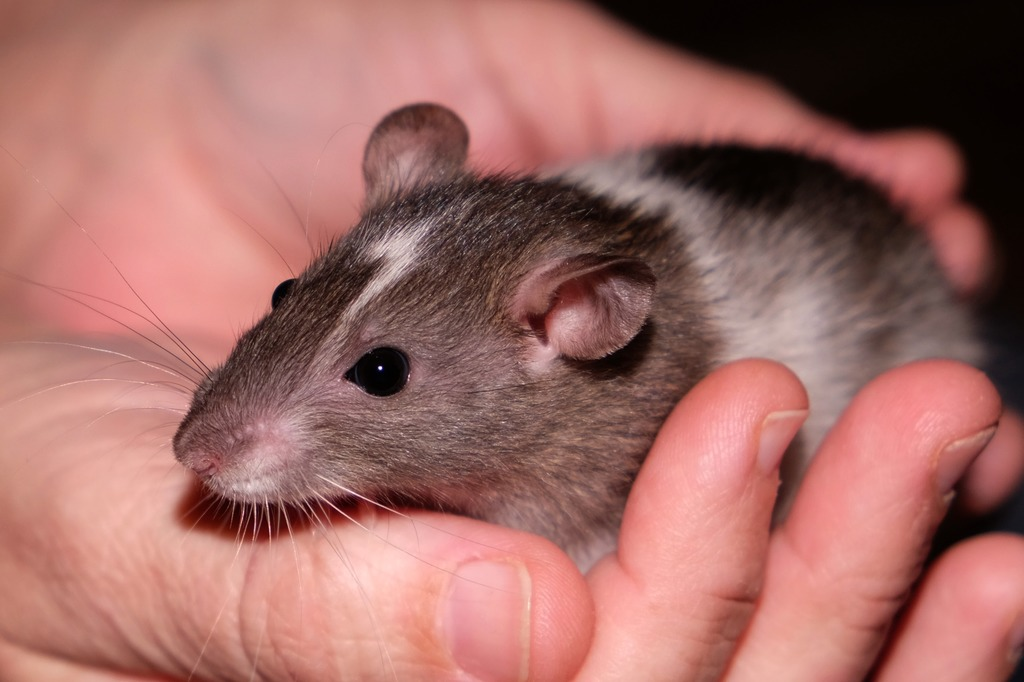Human_hand: (0, 0, 1024, 682)
